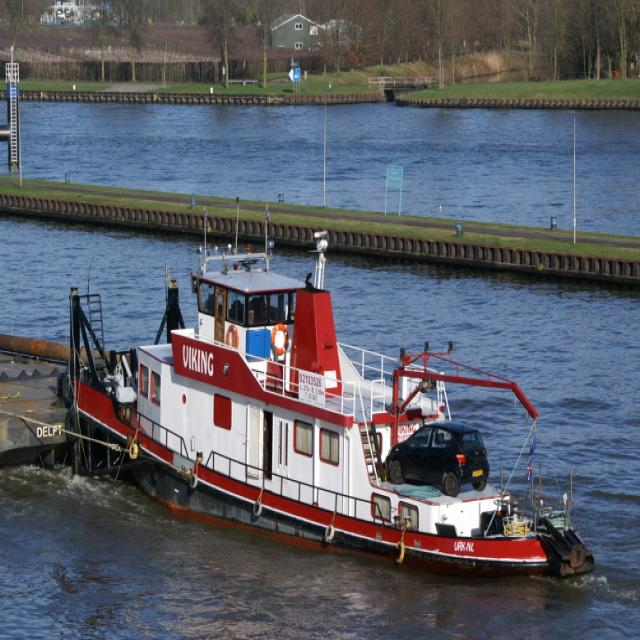tugboat: (57, 226, 600, 595)
